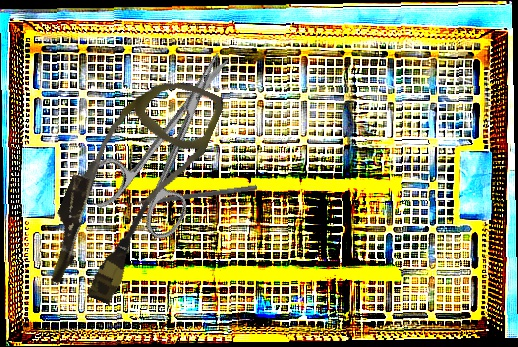Cannula: (32, 55, 227, 317)
Iris Scissors: (76, 30, 270, 249)
Spatula Surgical: (117, 179, 258, 210)
